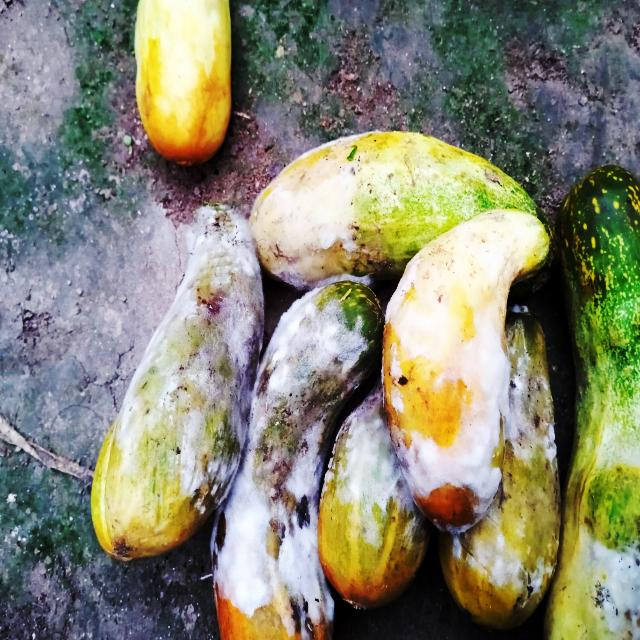Pythium-Fruit-Rot: (208, 250, 369, 624), (112, 204, 266, 516), (382, 246, 518, 536), (449, 326, 562, 594), (255, 122, 387, 288), (319, 385, 446, 552), (585, 526, 640, 634)
